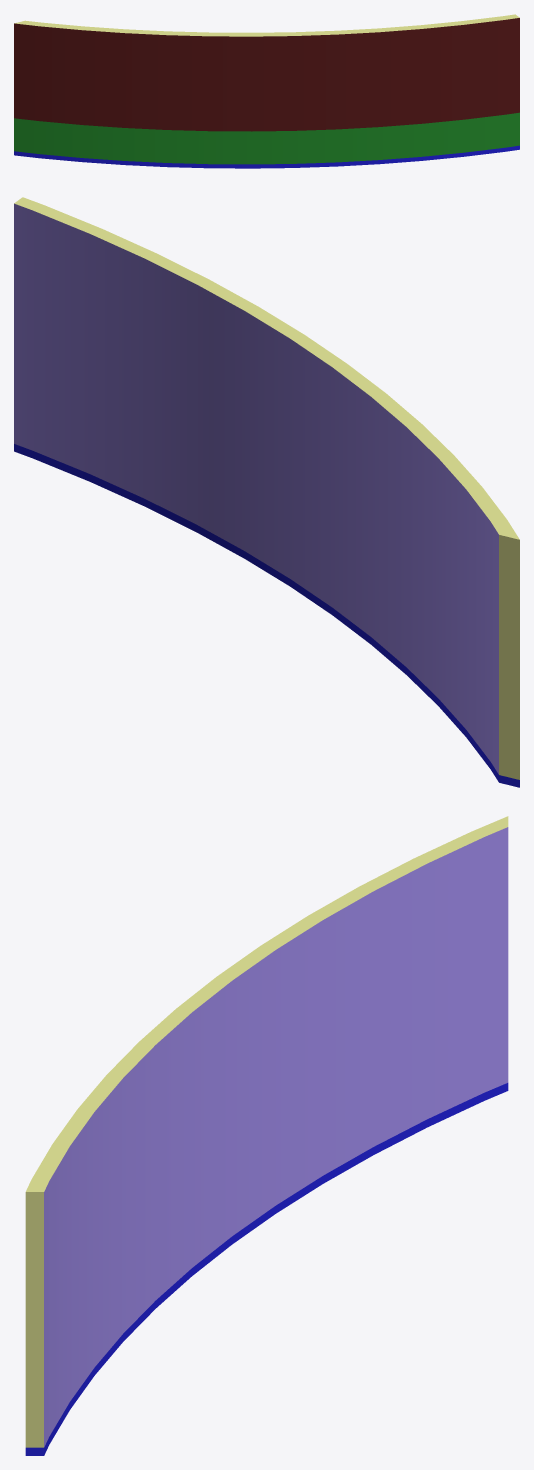
The model's file is SM_Bottom_Wall_Rounded_01.fbx.
The picture shows the model from 3 angles, top to bottom: view 1: azimuth 30°, elevation 25°; view 2: azimuth 150°, elevation 25°; view 3: azimuth 270°, elevation 25°; orthographic projection. The views are drawn at different scales.
Visible parts, largest first — view 1: Wall; view 2: Wall; view 3: Wall.
Boxes of the visible parts, left/top/right/bottom form: Wall: left=14, top=14, right=519, bottom=168; Wall: left=14, top=197, right=519, bottom=787; Wall: left=25, top=816, right=508, bottom=1455.
Size of what is drawn, in the model's own units: 978 by 320 by 531.
